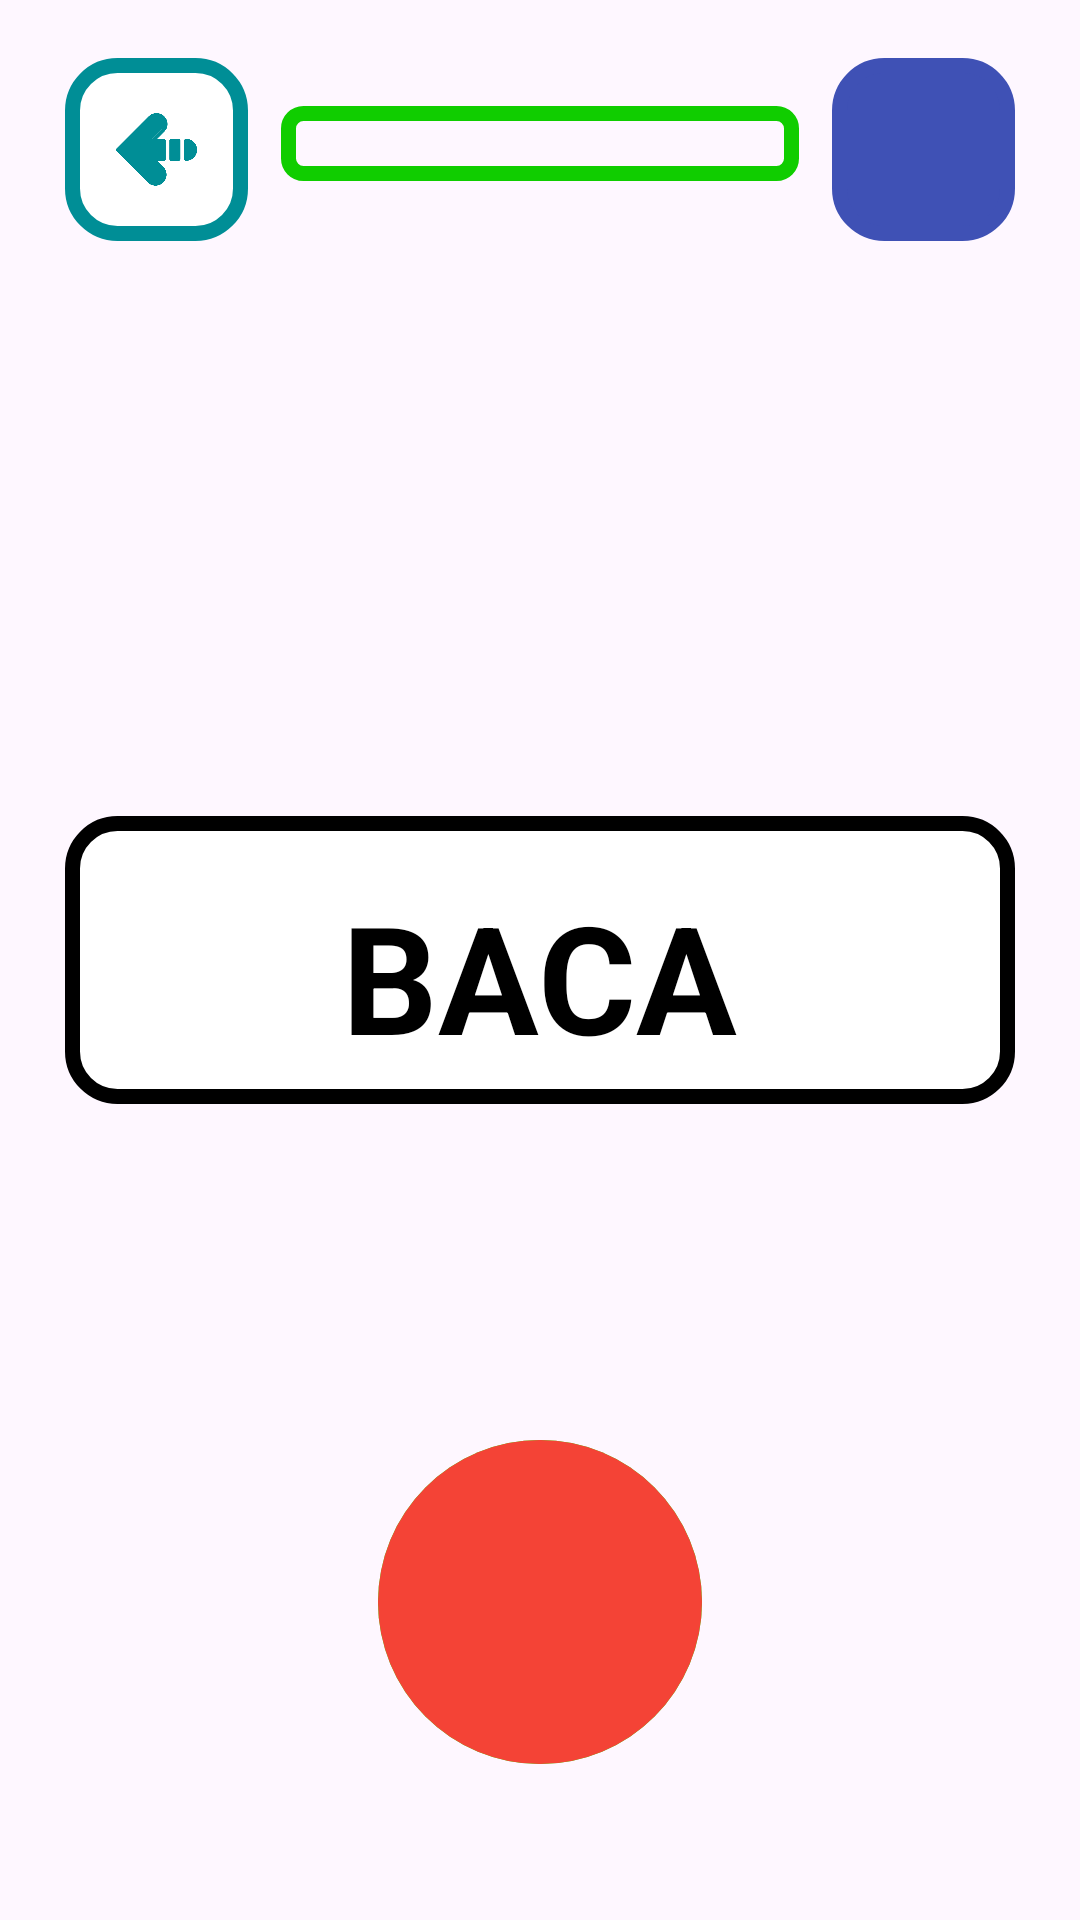

Where to tap for icons on this 1080px x 1920px app screen, as (x=x, y=y):
backward: (x=156, y=149)
